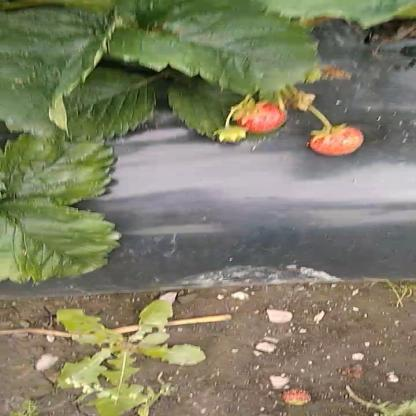ripe: (234, 102, 290, 136), (307, 128, 366, 156)
